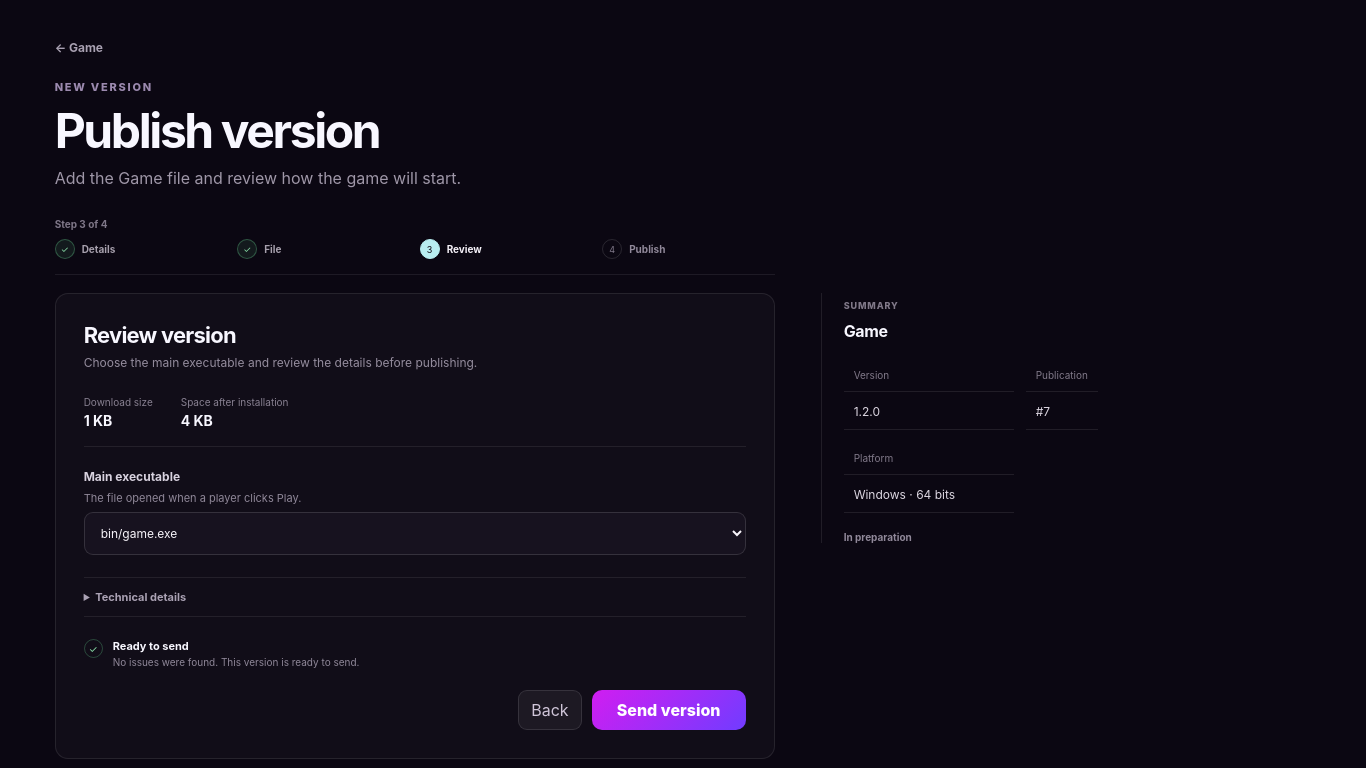
locks the reviewed artifact and retries an interrupted upload identically
Step 1. Click the button "Send version" → click(669, 710), box 592,690 -> 746,730
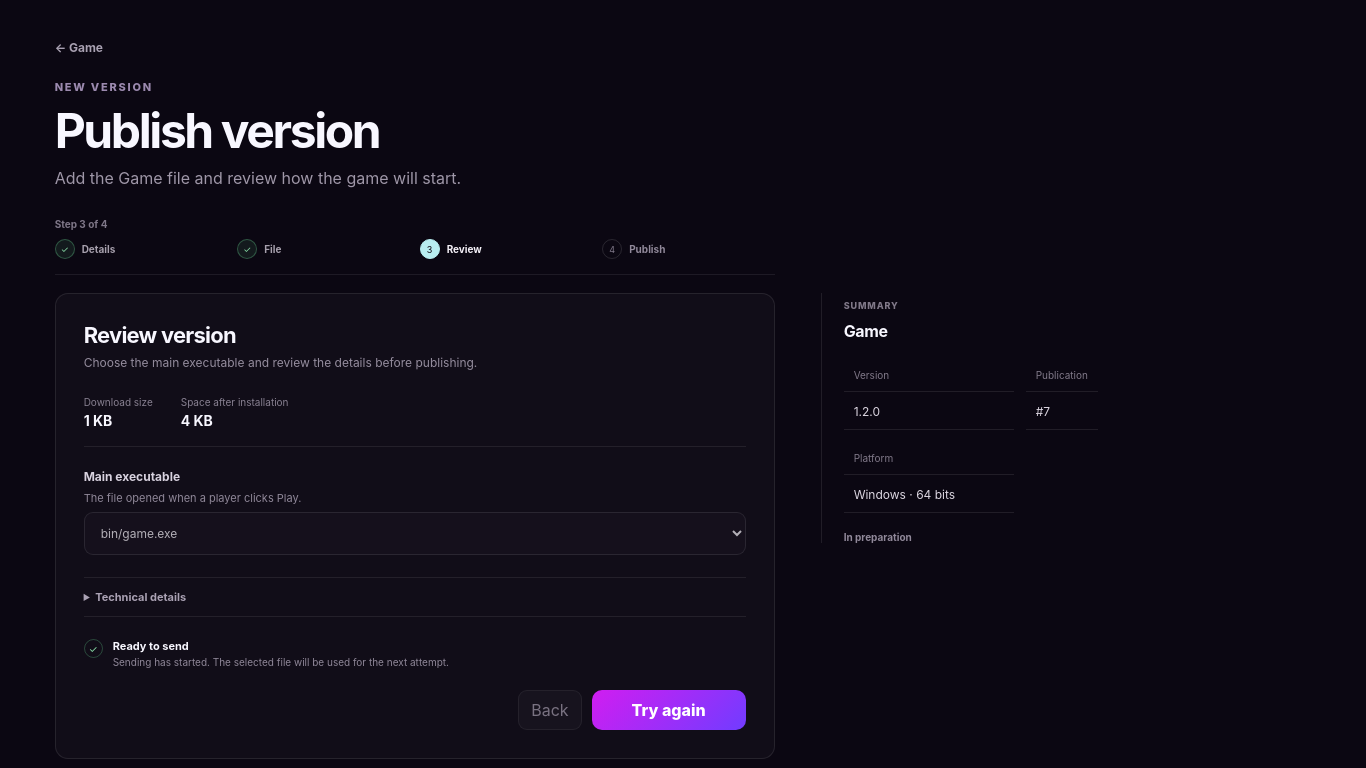
Check: the dropdown is disabled, box 84,512 -> 746,555
Check: the button "Back" is disabled, box 518,690 -> 582,730
Step 2. Click the button "Try again" → click(669, 710), box 592,690 -> 746,730
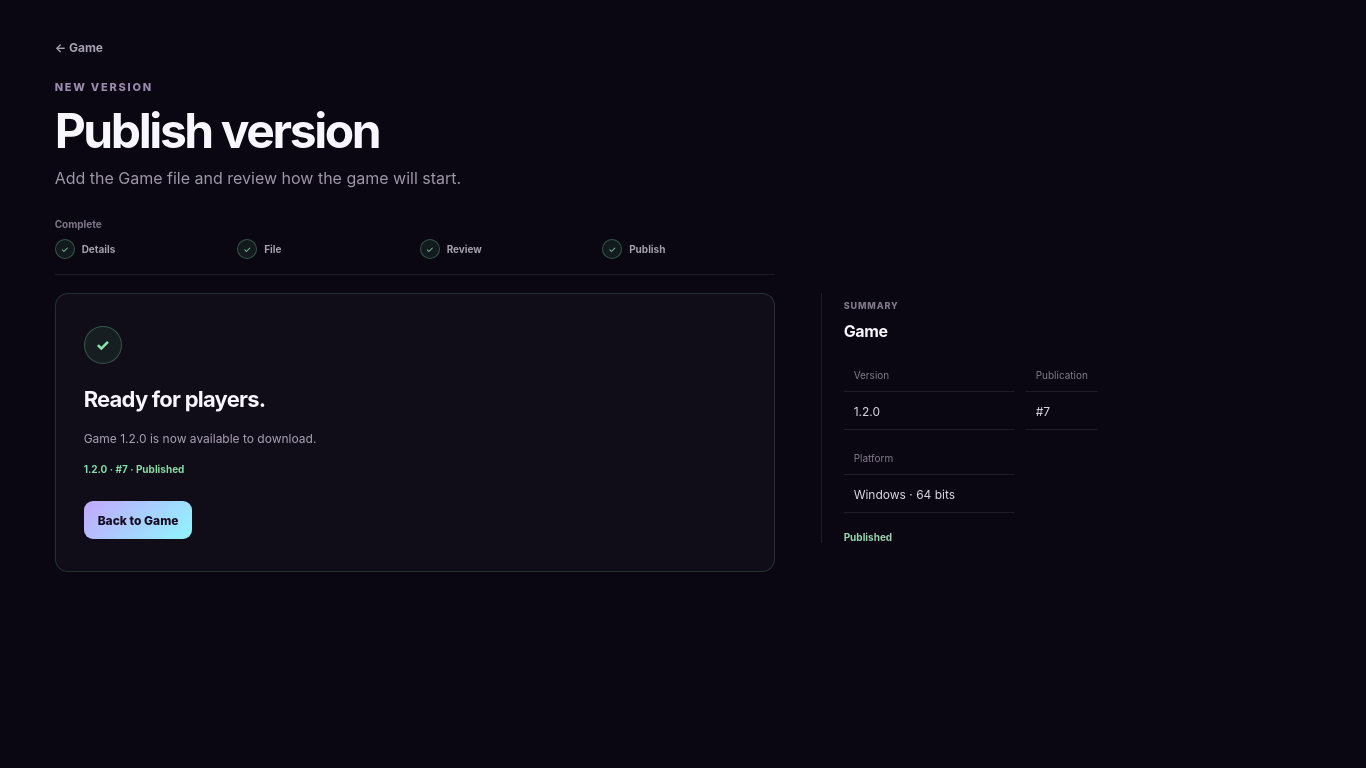
Check: the heading "Ready for players." is shown, box 84,386 -> 265,412
